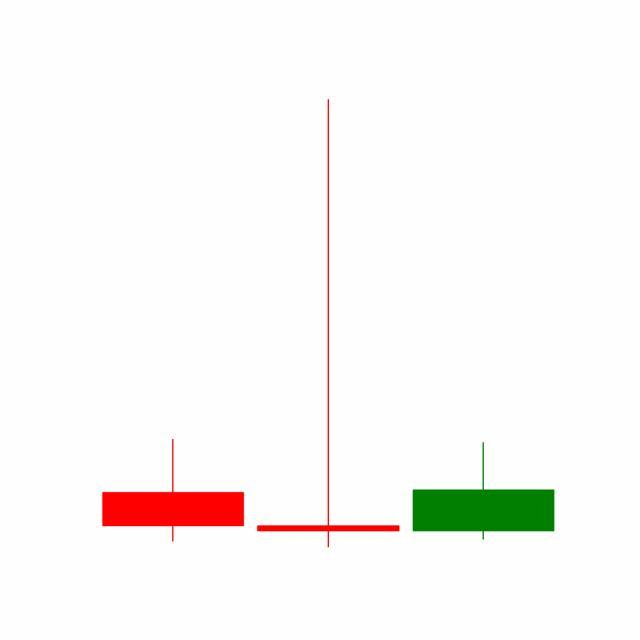Gravestone Doji: (250, 95, 407, 553)
